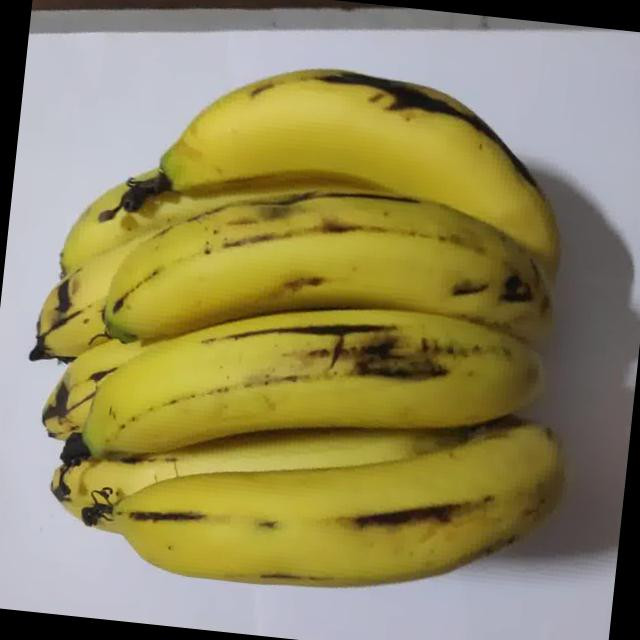banana_pacche: (0, 28, 596, 619)
